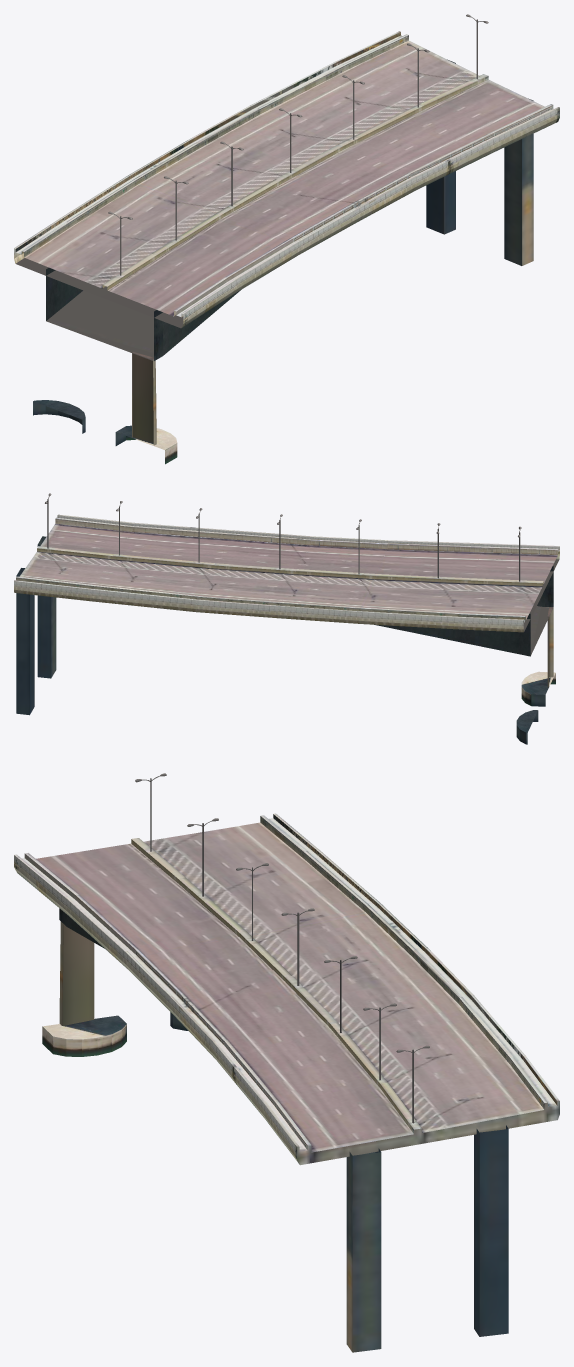
File: roads_context_16.glb
The picture shows the model from 3 angles, top to bottom: view 1: azimuth 30°, elevation 25°; view 2: azimuth 150°, elevation 25°; view 3: azimuth 270°, elevation 25°; orthographic projection. The views are drawn at different scales.
Parts seen in each view (by area): view 1: I086511719907063A0.001; view 2: I086511719907063A0.001; view 3: I086511719907063A0.001.
Part boxes in pixels (x1,y1,x2,y2): I086511719907063A0.001: [14, 14, 559, 464]; I086511719907063A0.001: [14, 493, 559, 744]; I086511719907063A0.001: [14, 773, 559, 1352].
Size of the model in its own units: 114 by 45.81 by 79.29.
2 materials, 2 textured.
